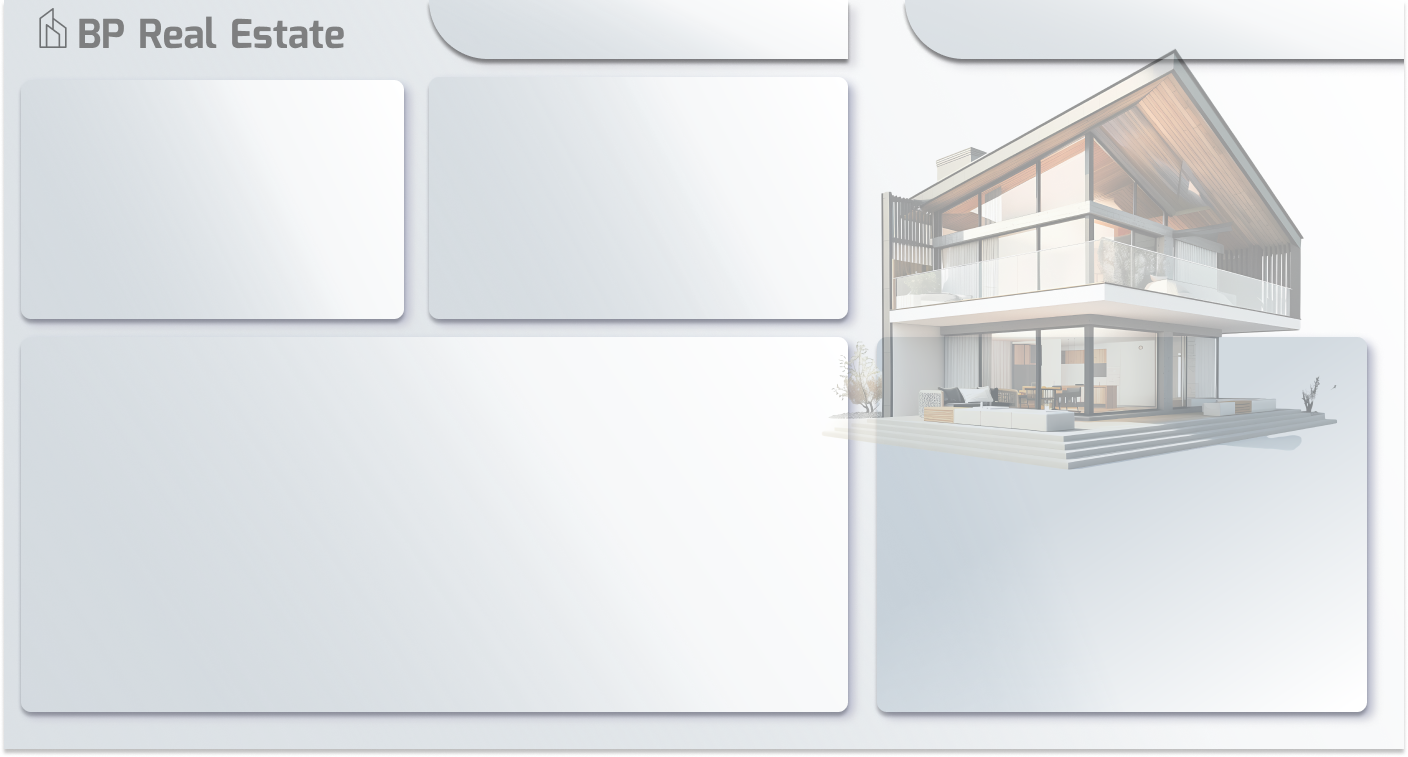

This screenshot's page, from the dashboard's own definition file:
{"tool":"powerbi","page":{"name":"Page 1","canvas":[1800,950],"ordinal":0},"visuals":[{"type":"image","box":[0,-10,1800,960],"z":0},{"type":"donutChart","title":"Count of Property Type by Total Revenue","fields":{"Category":["Property Dimension.PropertyType"],"Y":["CountNonNull(RealEstateSales.LastSaleDate)"]},"box":[1120,512,624,384],"z":0,"group":"g1"},{"type":"cardVisual","fields":{"Data":["CY Average.Average Sales Price","CY Average.Total Sales"]},"box":[48,96,984,312],"z":1000},{"type":"cardVisual","fields":{"Data":["CY Average.TRevenue"]},"box":[1240,656,240,144],"z":1000,"group":"g1"},{"type":"advancedSlicerVisual","fields":{"Values":["Line Chart Grad.Line Chart Grad"]},"box":[48,432,1032,72],"z":2000},{"type":"lineChart","fields":{"Y":["CY Average.Average days on Mrkt","CY Average.Average Sales Price","CY Average.Total Sales","CY Average.TRevenue"],"Category":["Calendar Table.Year Hierarchy.Year","Calendar Table.Year Hierarchy.Short Month Name"]},"box":[48,504,1032,384],"z":3000},{"type":"group","id":"g1","title":"Property Type","box":[1120,512,624,384],"z":4000},{"type":"advancedSlicerVisual","fields":{"Values":["Location Dimension Table.Region"]},"box":[1216,0,576,64],"z":5000},{"type":"advancedSlicerVisual","fields":{"Values":["Property Dimension.PropertyType"]},"box":[608,0,480,64],"z":6000},{"type":"textbox","box":[24,0,480,72],"z":7000}]}

Visuals, with their boxes in screenshot pixels (x1, y1, x2, y2), scaled from the page's 1800x950 canvas onto the 1408x757 screenshot:
image: 0:0:1407:756
"Count of Property Type by Total Revenue" donutChart: 876:408:1364:714
cardVisual - CY Average.Average Sales Price x CY Average.Total Sales: 38:76:807:325
cardVisual - CY Average.TRevenue: 970:523:1158:637
advancedSlicerVisual - Line Chart Grad.Line Chart Grad: 38:344:845:402
lineChart - CY Average.Average days on Mrkt x CY Average.Average Sales Price: 38:402:845:708
"Property Type" group: 876:408:1364:714
advancedSlicerVisual - Location Dimension Table.Region: 951:0:1402:51
advancedSlicerVisual - Property Dimension.PropertyType: 476:0:851:51
textbox: 19:0:394:57
